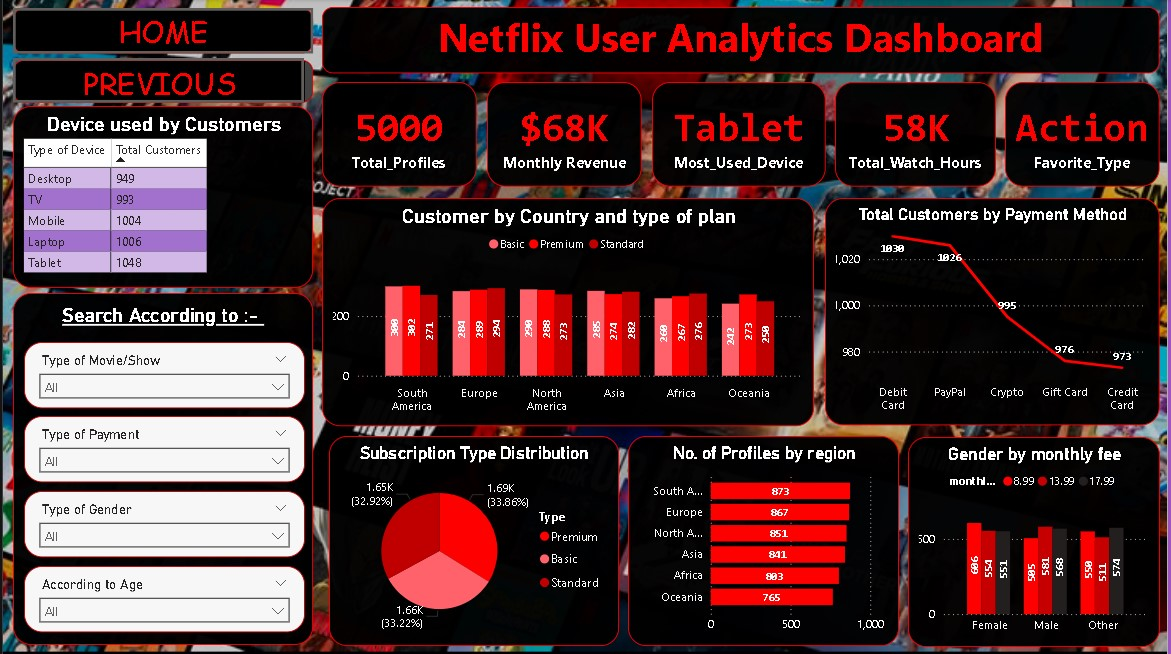

The dashboard page shown, as its layout file describes it:
{"tool":"powerbi","page":{"name":"User","canvas":[1280,720],"ordinal":2},"visuals":[{"type":"textbox","box":[350.9,9.1,921.1,73.1],"z":0},{"type":"card","fields":{"Values":["Min(netflix_customer_churn.favorite_genre)"]},"box":[1101.7,91.4,170.3,115.4],"z":1000},{"type":"card","fields":{"Values":["netflix_customer_churn.TotalRevenue"]},"box":[532.6,91.4,170.3,115.4],"z":2000},{"type":"card","fields":{"Values":["netflix_customer_churn.ActiveUsers"]},"box":[713.1,91.4,190.9,115.4],"z":3000},{"type":"pieChart","title":"Subscription Type Distribution","fields":{"Category":["netflix_customer_churn.subscription_type"],"Y":["CountNonNull(netflix_customer_churn.customer_id)"]},"box":[358.9,480,318.9,230.9],"z":4000},{"type":"card","fields":{"Values":["netflix_customer_churn.TotalProfiles"]},"box":[350.9,91.4,170.3,115.4],"z":5000},{"type":"clusteredColumnChart","title":"Customer by Country and type of plan","fields":{"Y":["CountNonNull(netflix_customer_churn.customer_id)"],"Category":["netflix_customer_churn.region"],"Series":["netflix_customer_churn.subscription_type"]},"box":[350.9,218.3,540.6,251.4],"z":6000},{"type":"pivotTable","title":"Device used by Customers","fields":{"Rows":["netflix_customer_churn.device"],"Values":["CountNonNull(netflix_customer_churn.customer_id)"]},"box":[11.4,117.7,330.3,200],"z":7000},{"type":"clusteredBarChart","fields":{"Y":["CountNonNull(netflix_customer_churn.customer_id)"],"Category":["netflix_customer_churn.region"]},"box":[686.9,480,298.3,230.9],"z":8000},{"type":"lineChart","title":"Total Customers by Payment Method","fields":{"Category":["netflix_customer_churn.payment_method"],"Y":["CountNonNull(netflix_customer_churn.customer_id)"]},"box":[904,218.3,368,250.3],"z":9000},{"type":"clusteredColumnChart","title":"Gender by monthly fee","fields":{"Y":["CountNonNull(netflix_customer_churn.favorite_genre)"],"Category":["netflix_customer_churn.gender"],"Series":["netflix_customer_churn.monthly_fee"]},"box":[995.4,481.1,276.6,230.9],"z":10000},{"type":"textbox","box":[11.4,323.4,330.3,387.4],"z":11000},{"type":"slicer","fields":{"Values":["netflix_customer_churn.favorite_genre"]},"box":[22.9,377.1,308.6,73.1],"z":12000},{"type":"slicer","fields":{"Values":["netflix_customer_churn.payment_method"]},"box":[22.9,458.3,308.6,73.1],"z":13000},{"type":"slicer","fields":{"Values":["netflix_customer_churn.gender"]},"box":[22.9,540.6,308.6,73.1],"z":14000},{"type":"slicer","fields":{"Values":["netflix_customer_churn.age"]},"box":[22.9,624,308.6,73.1],"z":15000},{"type":"textbox","box":[11.4,10.3,330.3,50.3],"z":16000},{"type":"actionButton","box":[11.4,10.3,330.3,50.3],"z":17000},{"type":"card","fields":{"Values":["netflix_customer_churn.TotalWatchHours"]},"box":[915.4,91.4,177.1,115.4],"z":18000},{"type":"textbox","box":[11.4,67.4,330.3,46.9],"z":19000},{"type":"actionButton","box":[11.4,65.1,320,49.1],"z":20000}]}

Visuals, with their boxes in screenshot pixels (x1, y1, x2, y2), scaled from the page's 1280x720 canvas onto the 1171x654 screenshot:
textbox: (321,8,1164,75)
card - Min(netflix_customer_churn.favorite_genre): (1008,83,1164,188)
card - netflix_customer_churn.TotalRevenue: (487,83,643,188)
card - netflix_customer_churn.ActiveUsers: (652,83,827,188)
"Subscription Type Distribution" pieChart: (328,436,620,646)
card - netflix_customer_churn.TotalProfiles: (321,83,477,188)
"Customer by Country and type of plan" clusteredColumnChart: (321,198,816,427)
"Device used by Customers" pivotTable: (10,107,313,289)
clusteredBarChart - CountNonNull(netflix_customer_churn.customer_id) x netflix_customer_churn.region: (628,436,901,646)
"Total Customers by Payment Method" lineChart: (827,198,1164,426)
"Gender by monthly fee" clusteredColumnChart: (911,437,1164,647)
textbox: (10,294,313,646)
slicer - netflix_customer_churn.favorite_genre: (21,343,303,409)
slicer - netflix_customer_churn.payment_method: (21,416,303,483)
slicer - netflix_customer_churn.gender: (21,491,303,557)
slicer - netflix_customer_churn.age: (21,567,303,633)
textbox: (10,9,313,55)
actionButton: (10,9,313,55)
card - netflix_customer_churn.TotalWatchHours: (837,83,999,188)
textbox: (10,61,313,104)
actionButton: (10,59,303,104)
